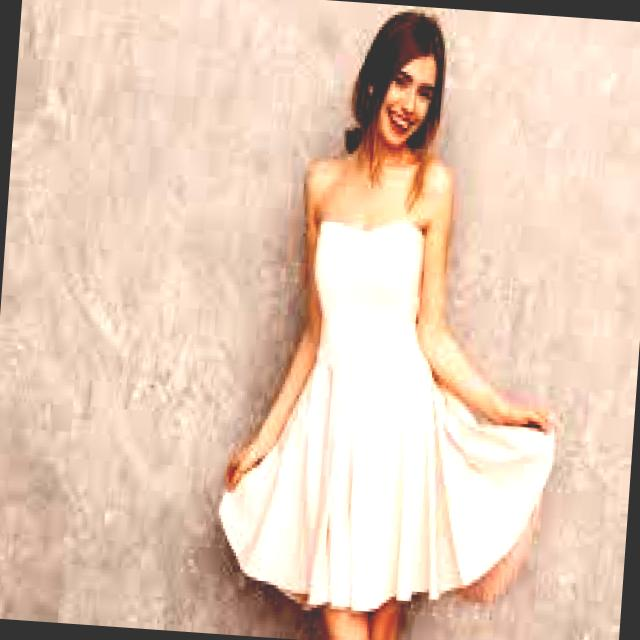dress: (220, 218, 556, 612)
